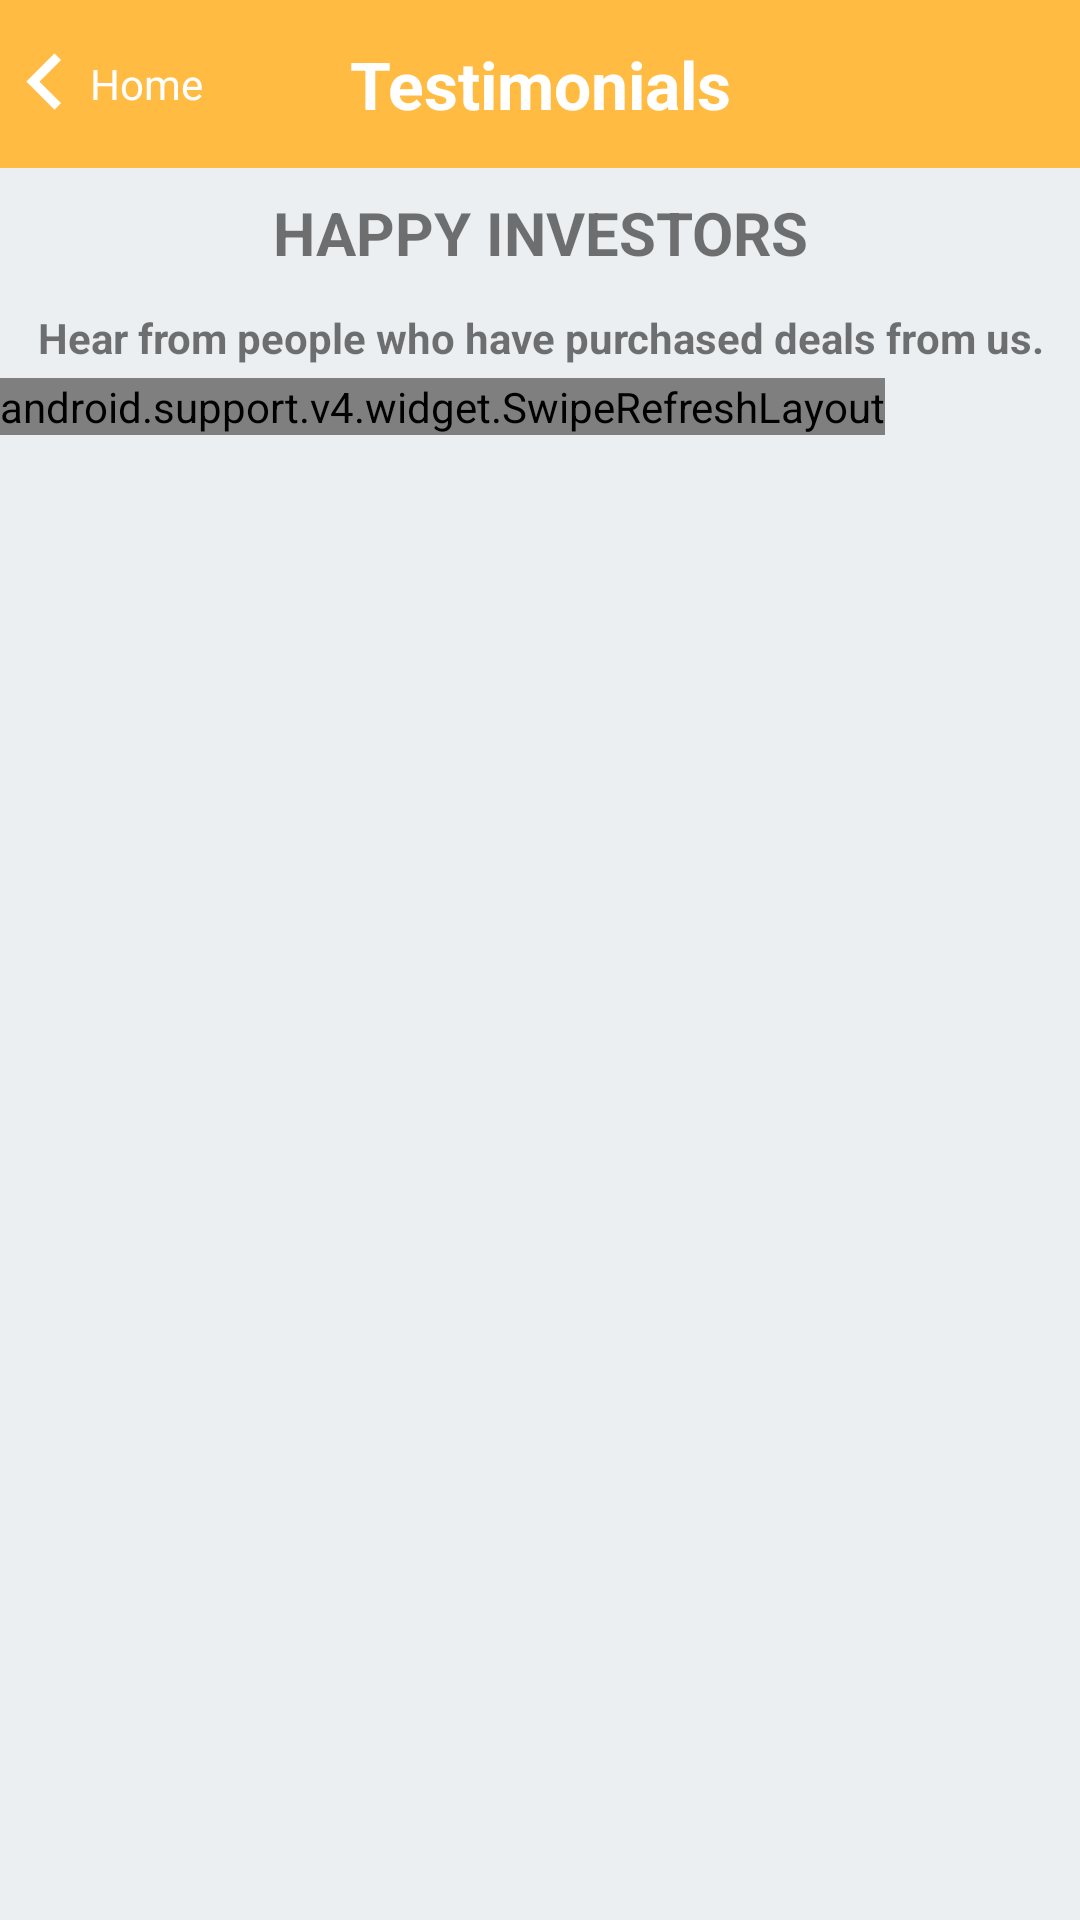

Where icons sit on this 1080×1920 app screen, as (x1, y1, x2, y2):
back: (26, 53, 61, 110)
